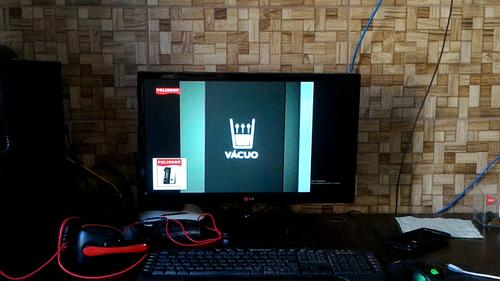Polishop #1: (152, 156, 187, 188)
